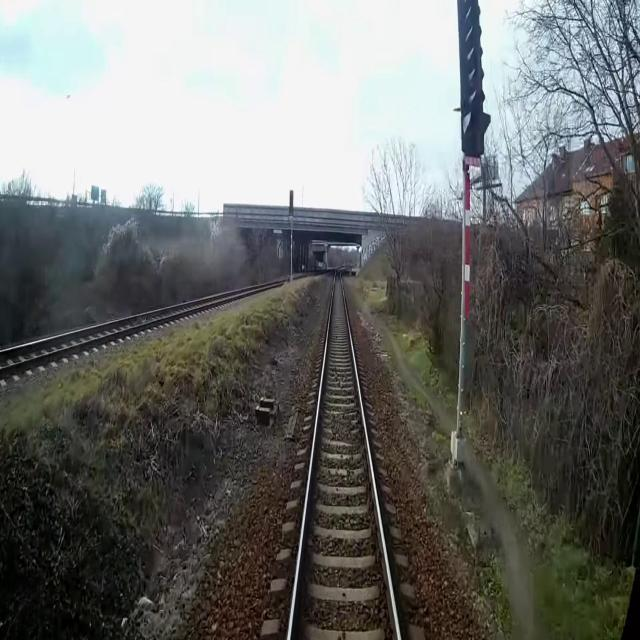rail-track: (292, 267, 397, 639), (0, 284, 267, 365)
